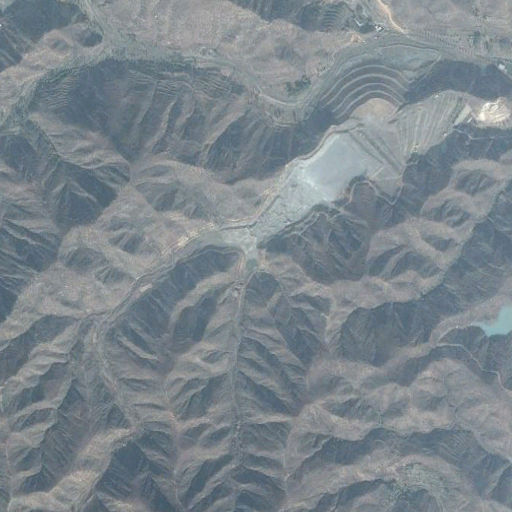tp: (247, 114, 404, 254)
